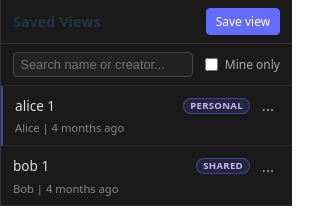
Test: WorkspaceSavedViewsSidebar — filter and search › 'Mine only' filters the list to the current user's views
Expected: the text "alice 1" is shown, left=15, top=96, right=55, bottom=115
Expected: the text "bob 1" is shown, left=13, top=156, right=49, bottom=175
Click the checkbox labelled "Mine only" at (211, 64), box left=205, top=58, right=218, bottom=71
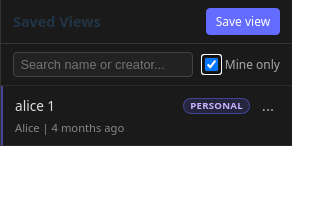
Expected: the text "alice 1" is shown, left=15, top=96, right=55, bottom=115
Expected: the text "bob 1" is gone
